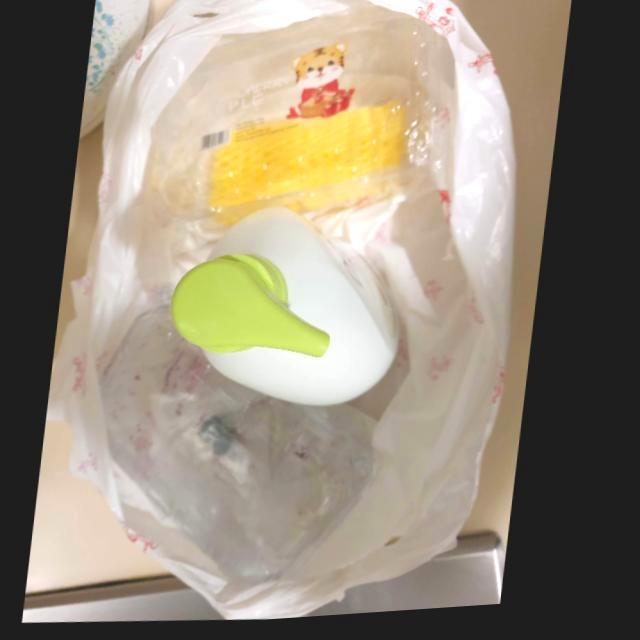plastic_container: (107, 305, 386, 587), (147, 10, 452, 256), (173, 208, 396, 409)
